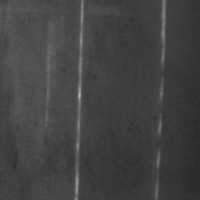scratches: (69, 0, 91, 197), (151, 4, 171, 200)
